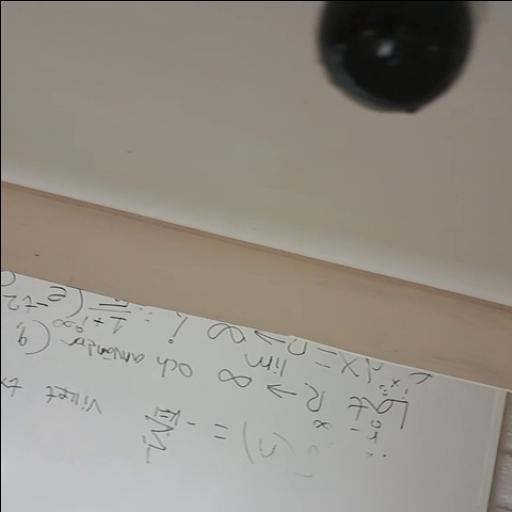dead: (316, 0, 474, 114)
